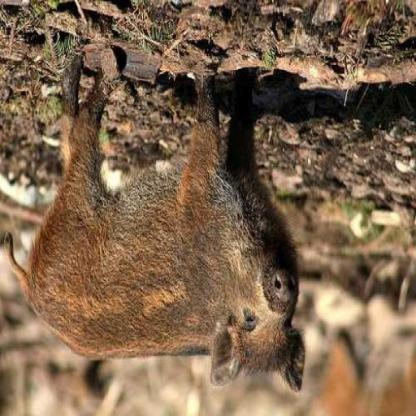boar: (10, 103, 321, 403)
